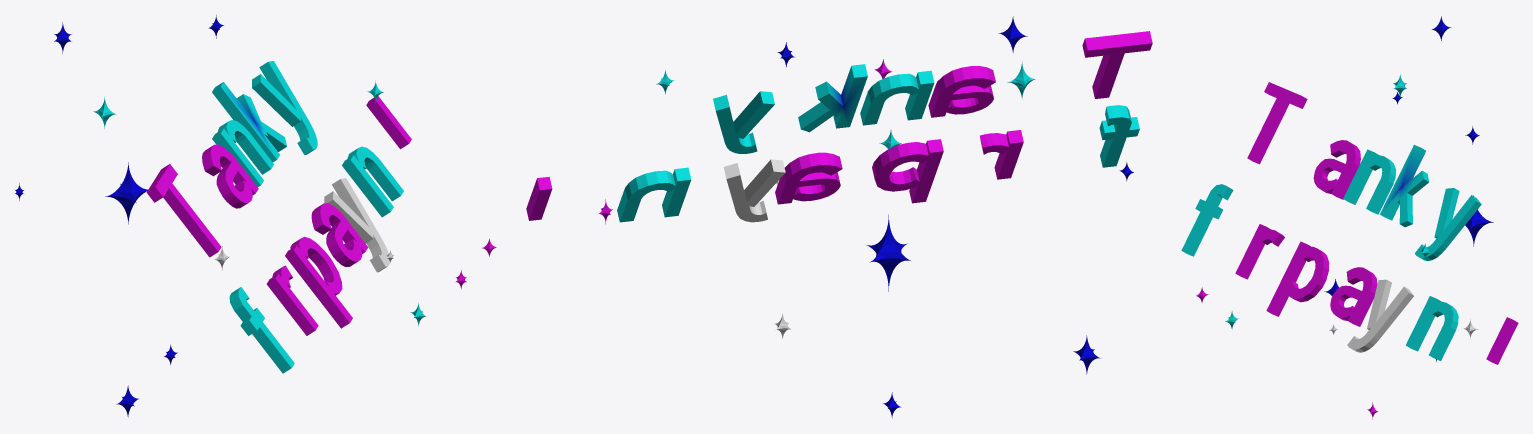
File: thank_you_z.obj
3 renders of one model, left to right at view 1: azimuth 30°, elevation 25°; view 2: azimuth 150°, elevation 25°; view 3: azimuth 270°, elevation 25°, orthographic. The views are drawn at different scales.
Visible parts, largest first — view 1: YMesh ZMesh, XMesh ZMesh, ZMesh, XMesh YMesh ZMesh; view 2: YMesh ZMesh, XMesh ZMesh, ZMesh, XMesh YMesh ZMesh; view 3: YMesh ZMesh, XMesh ZMesh, ZMesh, XMesh YMesh ZMesh.
Boxes of the visible parts, box(x1,y1,x2,y2) form: YMesh ZMesh: box(146, 96, 496, 335); XMesh ZMesh: box(93, 61, 425, 373); ZMesh: box(214, 178, 393, 272); XMesh YMesh ZMesh: box(15, 15, 223, 417); YMesh ZMesh: box(526, 31, 1152, 224); XMesh ZMesh: box(617, 62, 1139, 222); ZMesh: box(723, 159, 790, 338); XMesh YMesh ZMesh: box(777, 16, 1133, 418); YMesh ZMesh: box(1196, 82, 1518, 419); XMesh ZMesh: box(1181, 74, 1481, 360); ZMesh: box(1329, 279, 1478, 352); XMesh YMesh ZMesh: box(1324, 16, 1493, 361).
Bounding box in the file's own units: 9.28 × 7.01 × 6.99.
